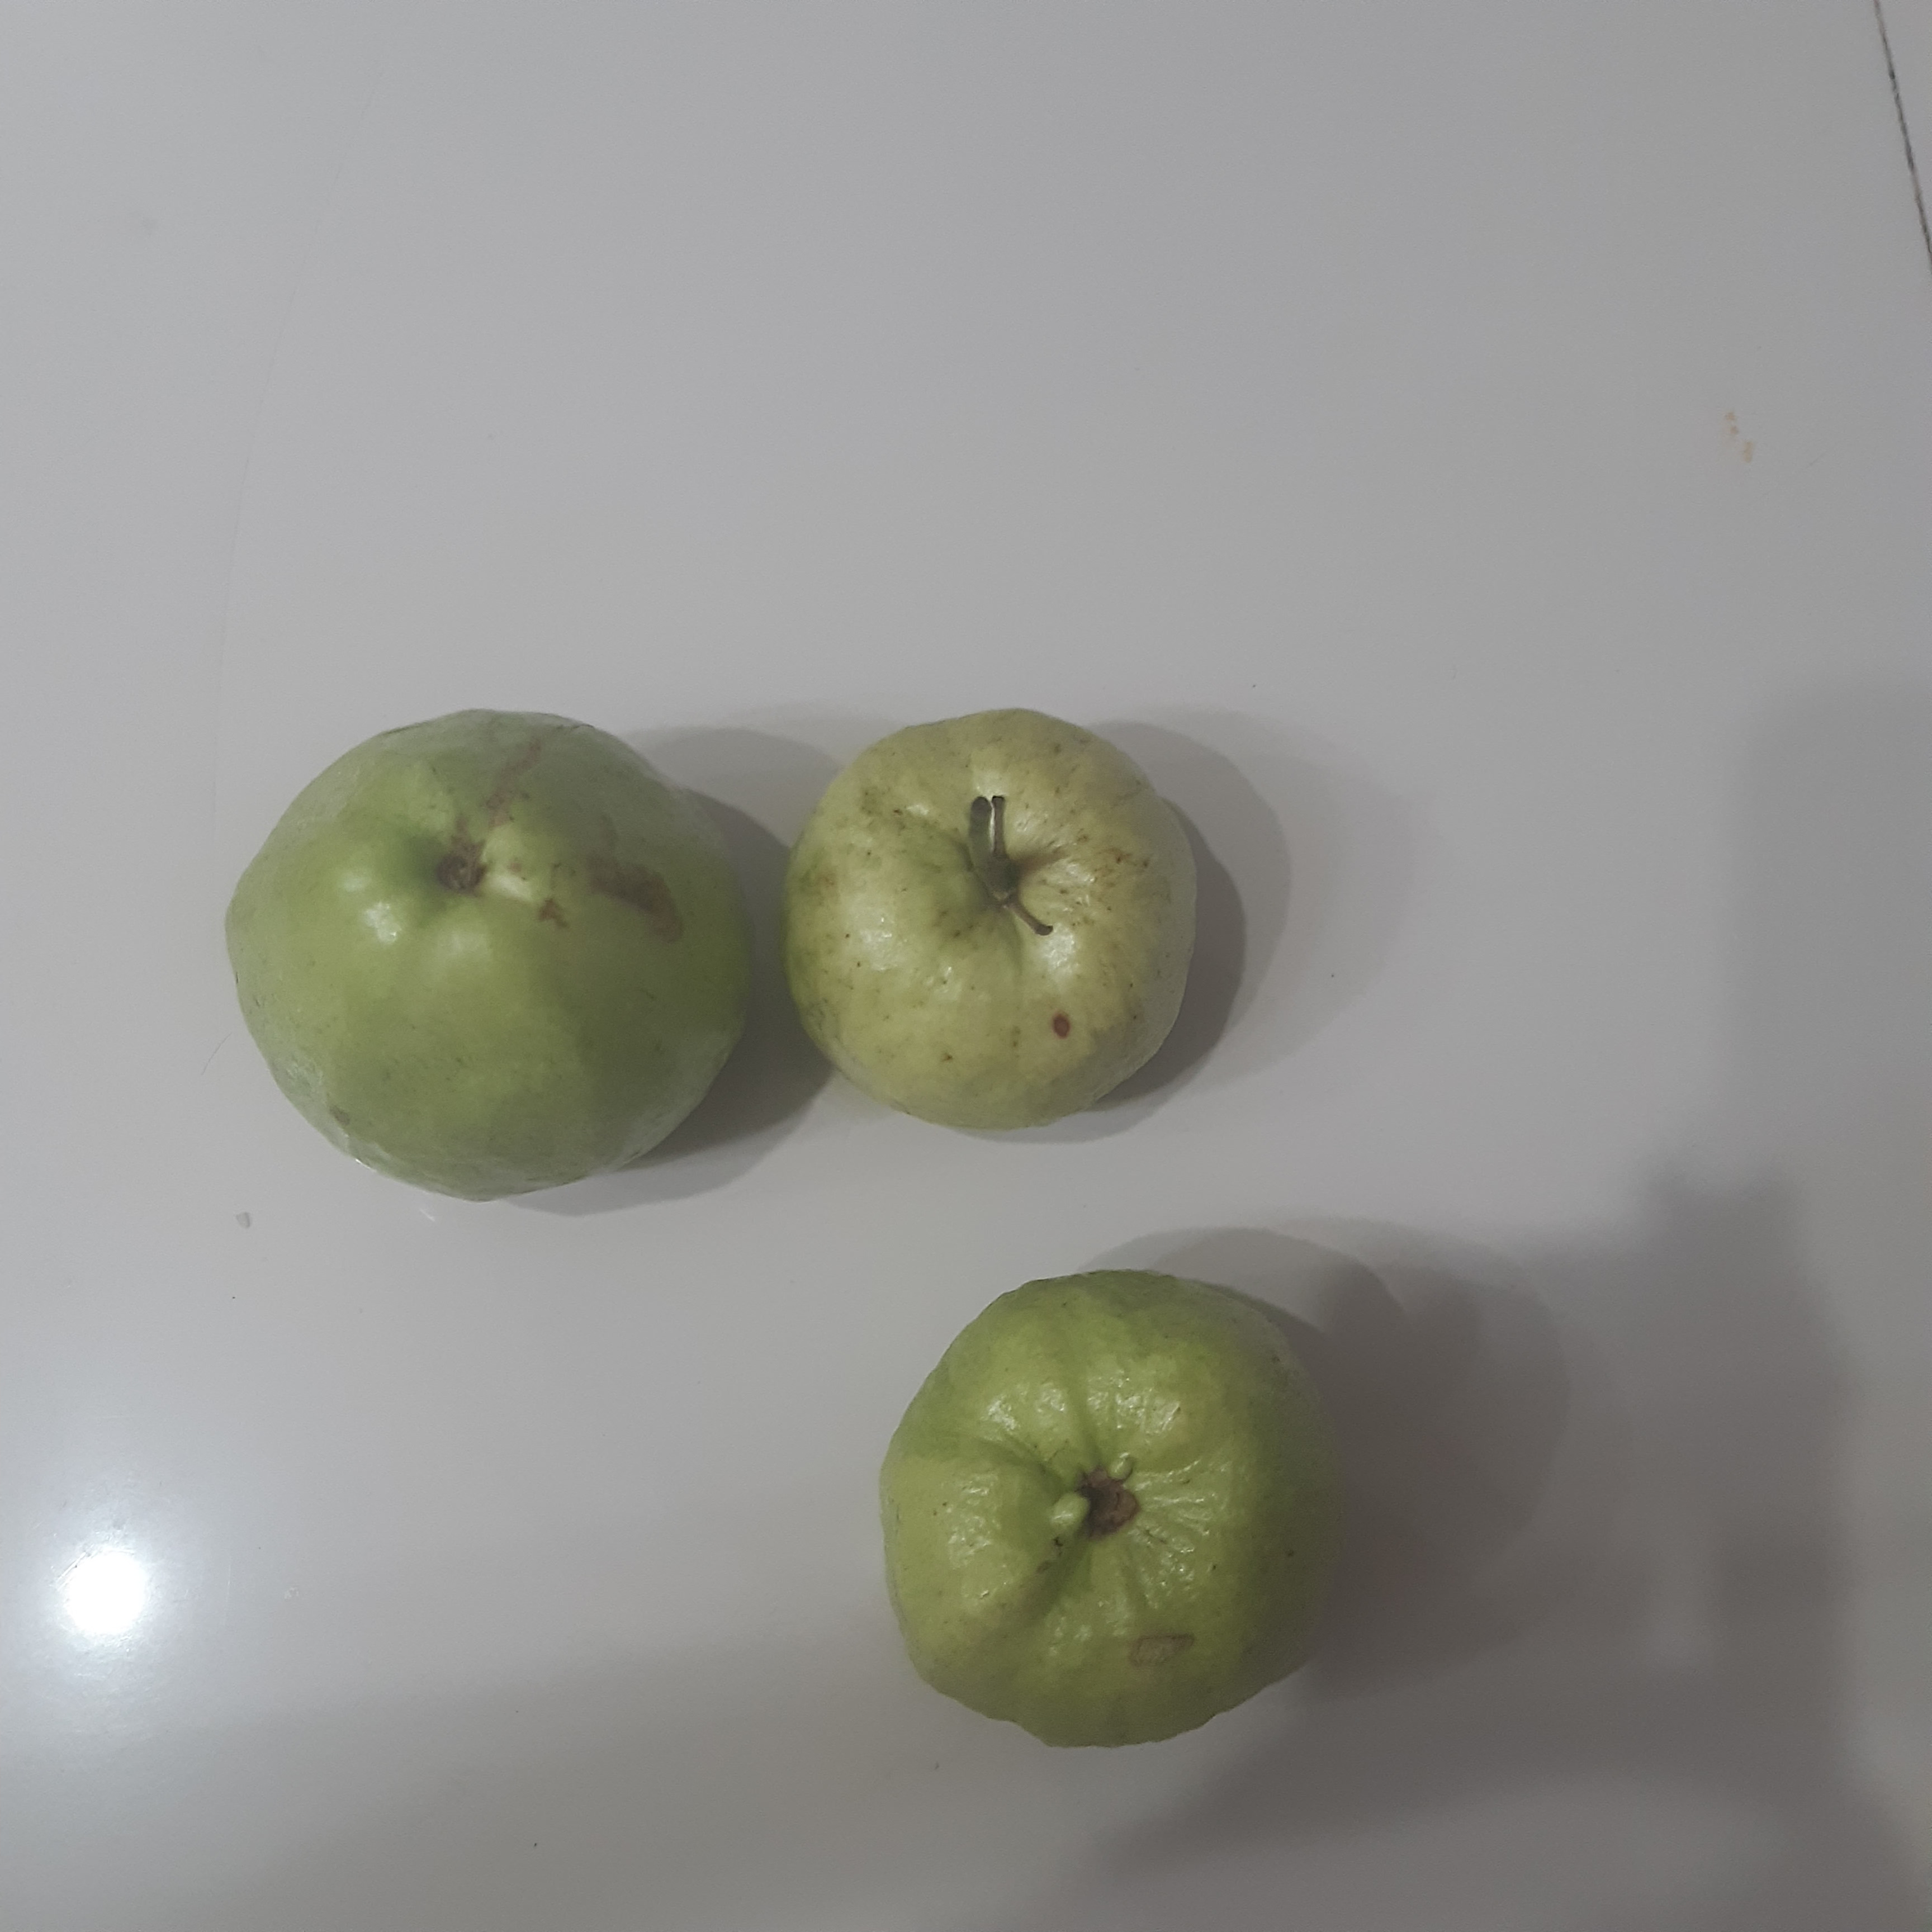Oi: (221, 704, 755, 1203), (876, 1267, 1341, 1752), (777, 706, 1201, 1134)
